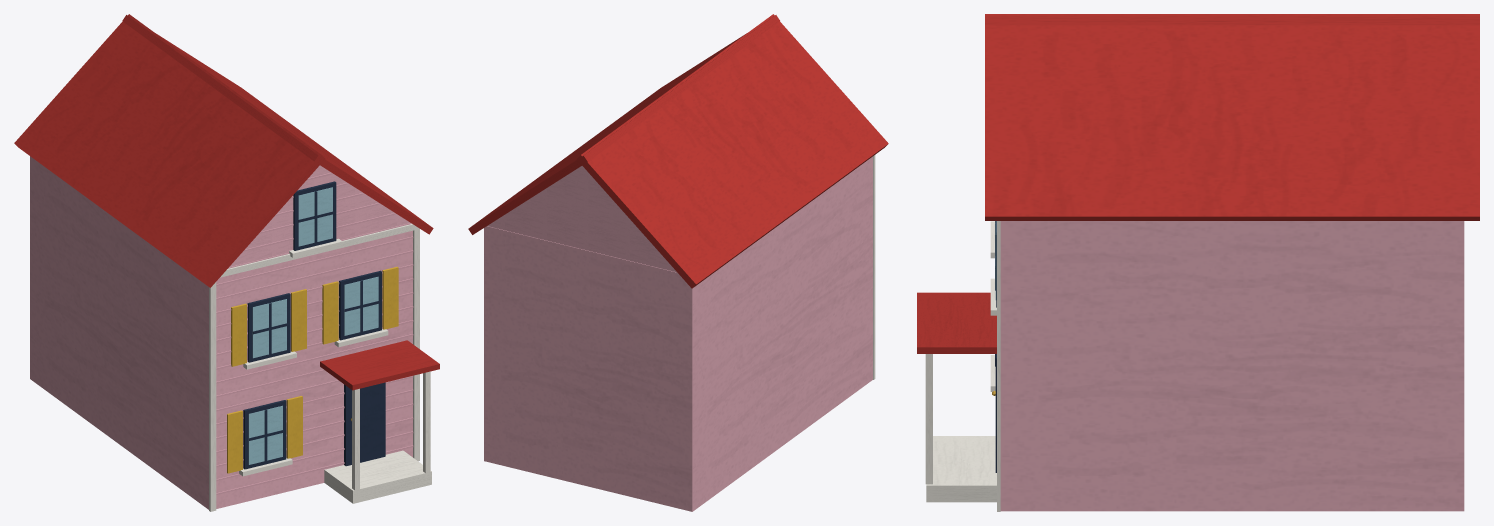
The model's file is townhouse_pink.glb.
3 renders of one model, left to right at view 1: azimuth 30°, elevation 25°; view 2: azimuth 150°, elevation 25°; view 3: azimuth 270°, elevation 25°, orthographic. The views are drawn at different scales.
Parts seen in each view (by area): view 1: townhouse; view 2: townhouse; view 3: townhouse.
Boxes of the visible parts, x1,y1,x2,y2 form: townhouse: [14, 14, 439, 511]; townhouse: [468, 14, 888, 511]; townhouse: [917, 14, 1479, 511].
Size of the model in its own units: 5.47 by 7.69 by 9.1.
12 materials, 12 textured.
